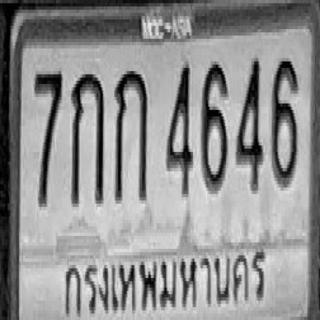A01: (70, 71, 104, 204), (114, 68, 147, 200)
N04: (236, 55, 262, 191), (166, 62, 192, 194)
N06: (271, 57, 298, 186), (201, 61, 227, 191)
N07: (34, 69, 62, 205)
P04: (62, 236, 270, 317)
